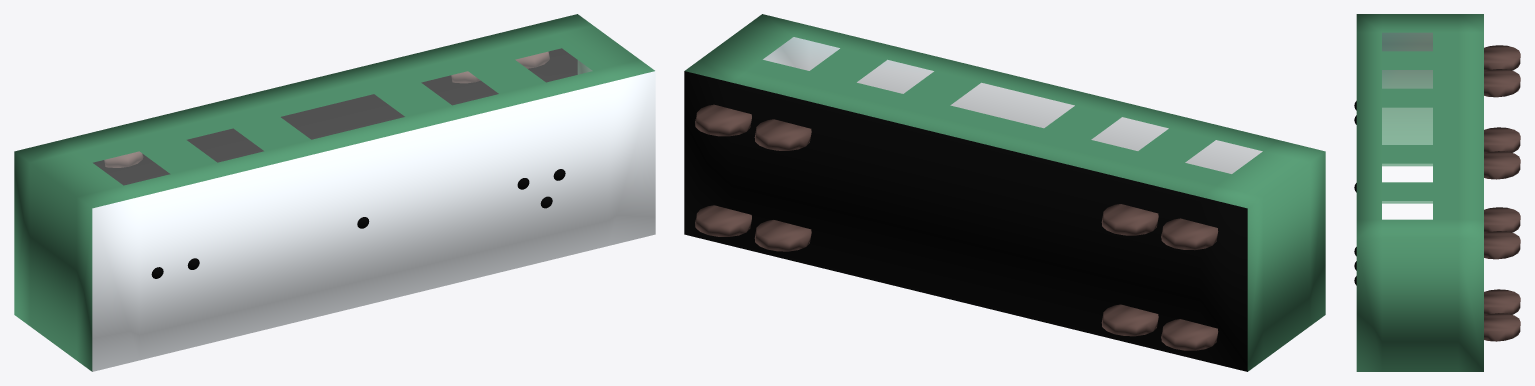
Rendered from asset2.glb.
3 renders of one model, left to right at view 1: azimuth 30°, elevation 25°; view 2: azimuth 150°, elevation 25°; view 3: azimuth 270°, elevation 25°, orthographic. The views are drawn at different scales.
Parts seen in each view (by area): view 1: Cube1, Cube16; view 2: Cube1, Cube16, Cylinder8_copy13, Cylinder8_copy10, Cylinder8_copy9, Cylinder8_copy14, Cylinder8_copy11, Cylinder8_copy15, Cylinder8, Cylinder8_copy12; view 3: Cube1, Cube16, Cylinder8_copy15, Cylinder8_copy11, Cylinder8_copy14, Cylinder8_copy10, Cylinder8_copy13, Cylinder8_copy9, Cylinder8_copy12, Cylinder8.
Boxes of the visible parts, x1=… form: Cube1: x1=14, y1=14, x2=655, y2=371; Cube16: x1=93, y1=48, x2=591, y2=184; Cube1: x1=684, y1=14, x2=1325, y2=371; Cube16: x1=763, y1=37, x2=1262, y2=173; Cylinder8_copy13: x1=754, y1=220, x2=811, y2=251; Cylinder8_copy10: x1=1101, y1=204, x2=1158, y2=235; Cylinder8_copy9: x1=1161, y1=319, x2=1218, y2=350; Cylinder8_copy14: x1=695, y1=104, x2=751, y2=136; Cylinder8_copy11: x1=1101, y1=304, x2=1158, y2=336; Cylinder8_copy15: x1=695, y1=205, x2=751, y2=236; Cylinder8: x1=1161, y1=218, x2=1218, y2=250; Cylinder8_copy12: x1=754, y1=119, x2=811, y2=150; Cube1: x1=1356, y1=14, x2=1483, y2=371; Cube16: x1=1382, y1=33, x2=1432, y2=219; Cylinder8_copy15: x1=1484, y1=313, x2=1520, y2=341; Cylinder8_copy11: x1=1484, y1=151, x2=1520, y2=179; Cylinder8_copy14: x1=1484, y1=231, x2=1520, y2=259; Cylinder8_copy10: x1=1484, y1=69, x2=1520, y2=97; Cylinder8_copy13: x1=1484, y1=289, x2=1520, y2=315; Cylinder8_copy9: x1=1484, y1=127, x2=1520, y2=153; Cylinder8_copy12: x1=1484, y1=207, x2=1520, y2=233; Cylinder8: x1=1484, y1=45, x2=1520, y2=71.
Size of the model in its own units: 1 by 0.2774 by 0.3131.
